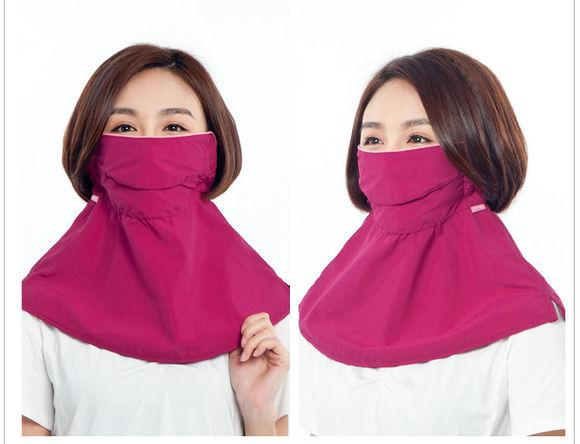OK: (357, 114, 471, 228), (98, 100, 201, 203)
